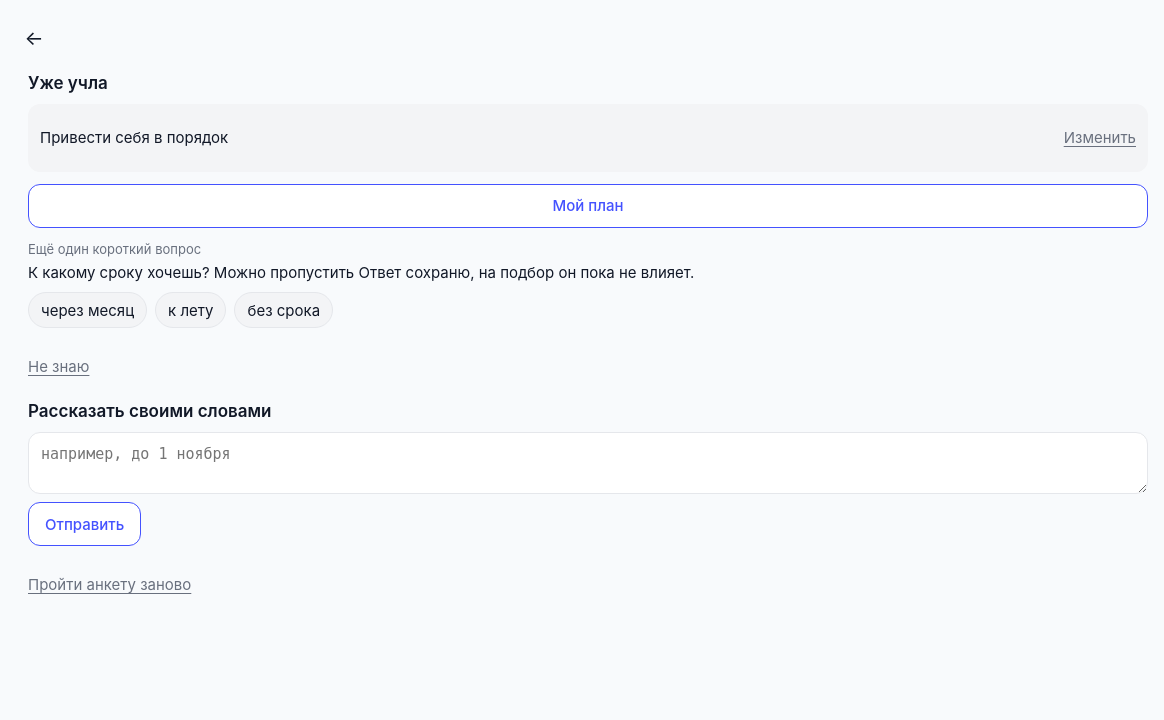
Scenario: шаг «К какому сроку хочешь?» › протухший документ (каталог 409 за общим 400 прокси) — по-прежнему общий текст и перечитывание
Click the button "без срока": {"x": 284, "y": 310} [234,292,333,328]
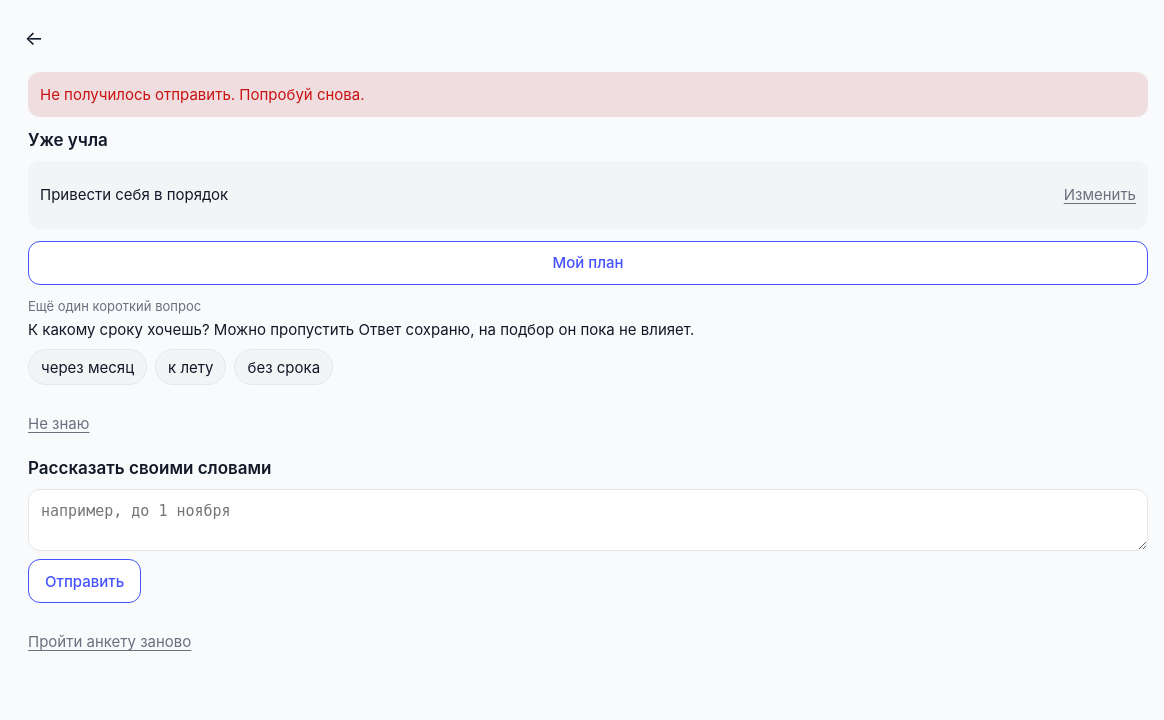
Expected: the text "Не получилось отправить. Попробуй снова." is shown, [40,85,364,104]
